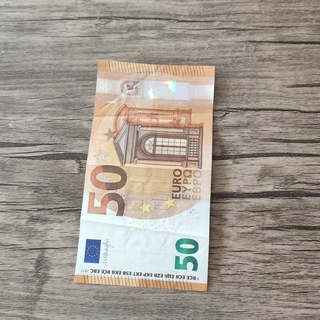50EUROFront: (72, 58, 216, 293)
